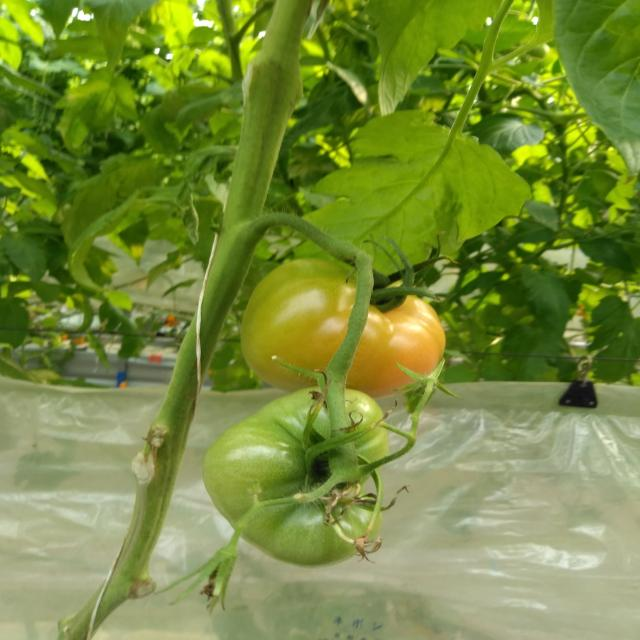n-half-riped: (240, 258, 446, 398)
n-unriped: (201, 386, 389, 568)
